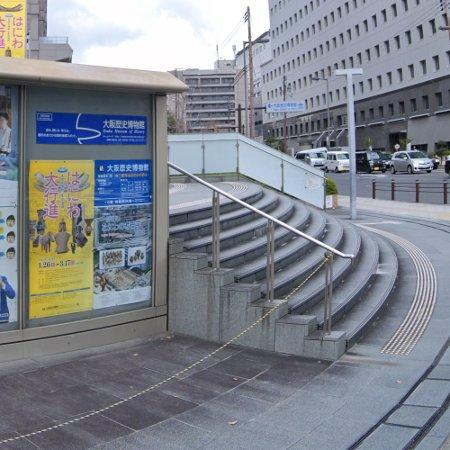stairs: (216, 183, 398, 345), (275, 226, 326, 329), (221, 198, 268, 296), (170, 184, 212, 265)
